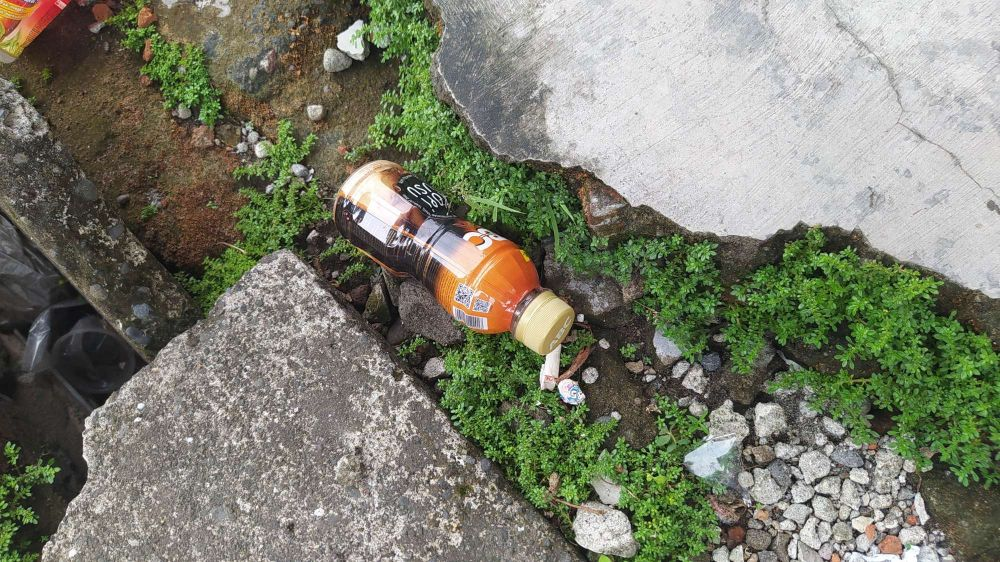botol: (258, 158, 595, 376)
